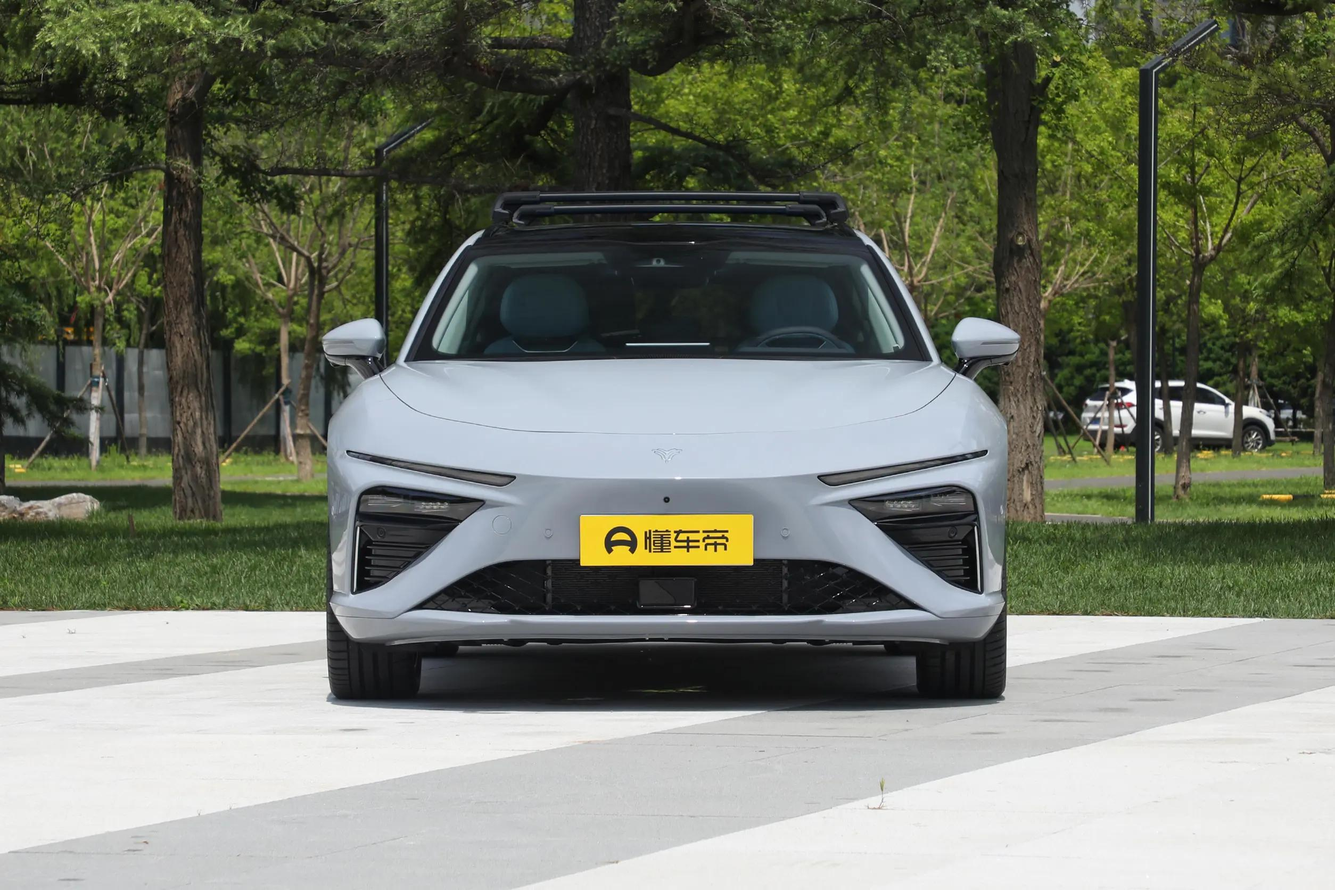NETA: (652, 447, 684, 465)
